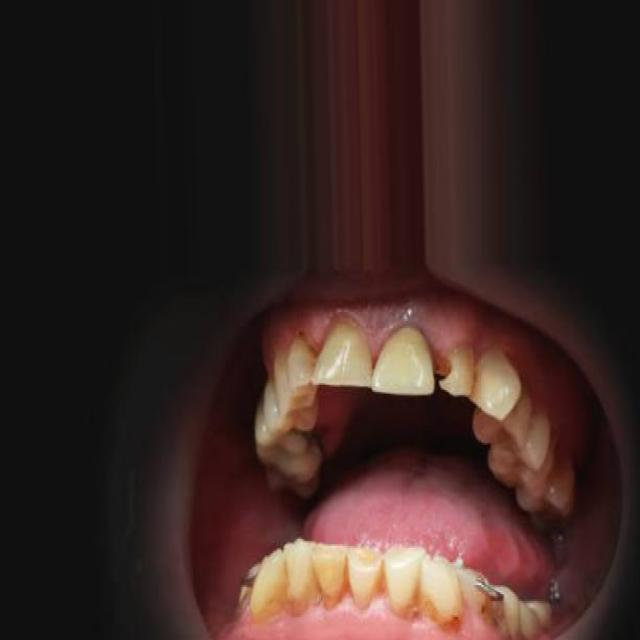caries: (436, 339, 476, 402), (475, 580, 509, 632), (437, 599, 468, 640)
